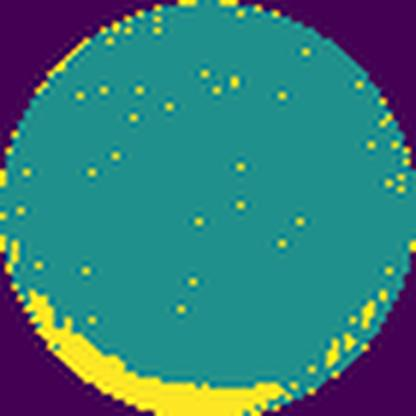Edge-Loc: (21, 278, 300, 416)
